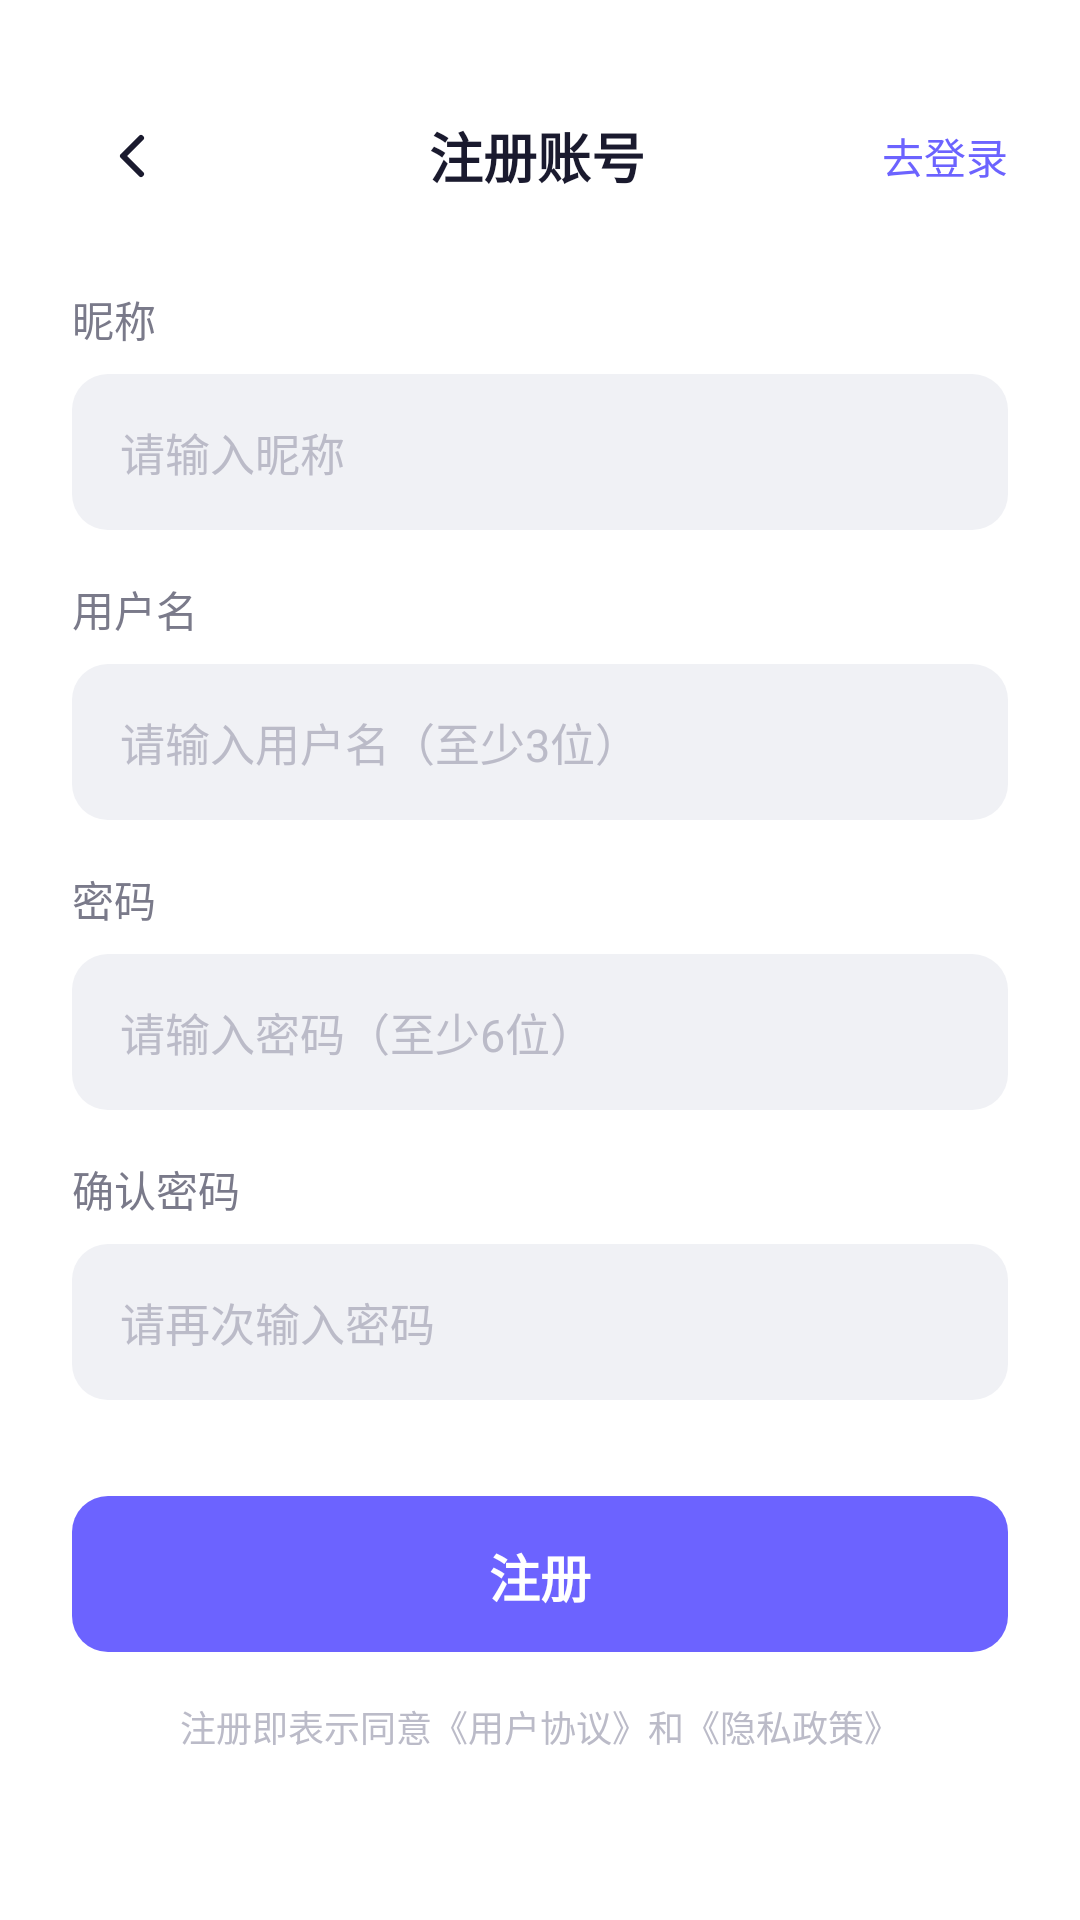

Screen size 1080 × 1920. Icon name, then its box in pixels as [left=x1, top=y1, right=x2, bottom=y2]:
back: [left=120, top=135, right=144, bottom=177]
